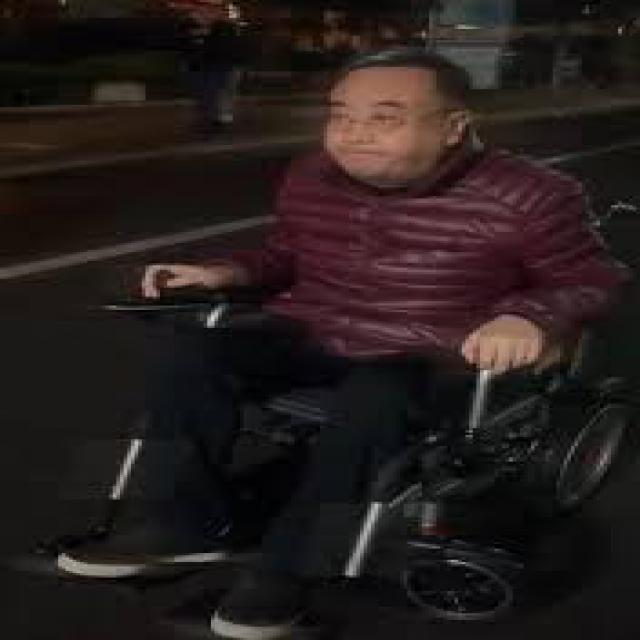wheelchairs: (69, 192, 636, 629)
